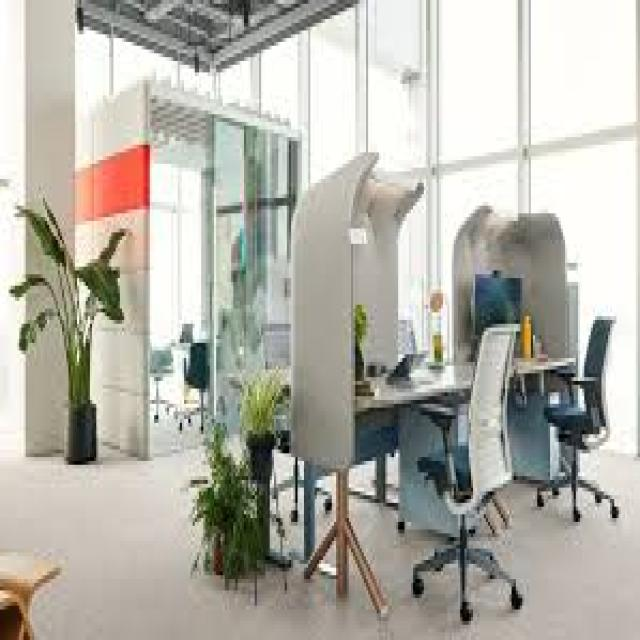chair: (404, 302, 534, 640), (522, 296, 632, 538)
